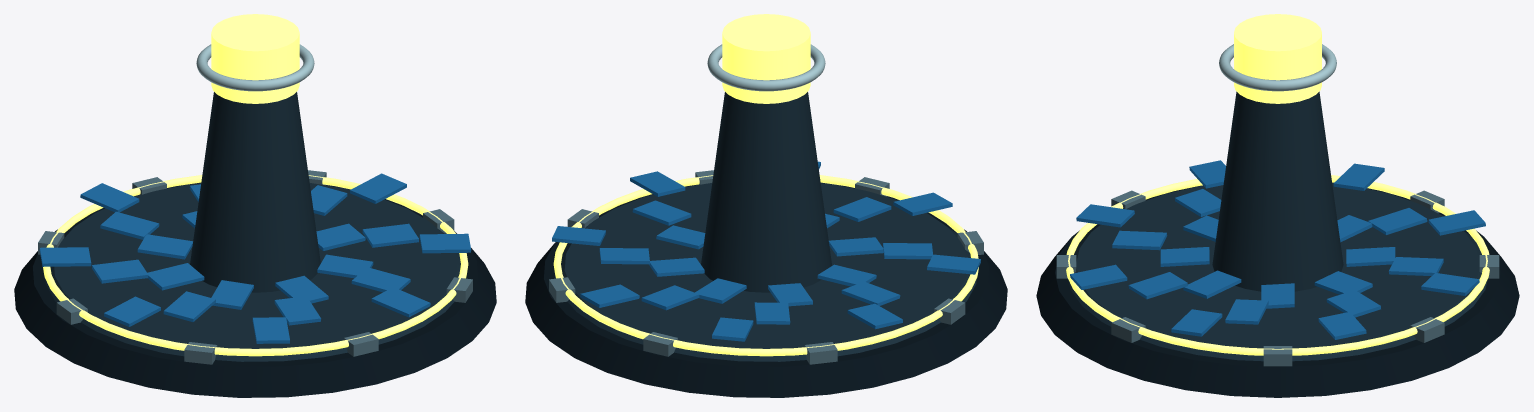
File: solarPlant.glb
3 renders of one model, left to right at view 1: azimuth 30°, elevation 25°; view 2: azimuth 150°, elevation 25°; view 3: azimuth 270°, elevation 25°, orthographic.
Visible parts, largest first — view 1: upper-deck, armored-foundation, receiver-tower, plasma-receiver, perimeter-light, detail, heliostat-2-1, heliostat-2-5, heliostat-1-0, heliostat-1-4, heliostat-2-4, heliostat-2-3 (+18 smaller); view 2: upper-deck, armored-foundation, receiver-tower, plasma-receiver, perimeter-light, detail, heliostat-2-2, heliostat-2-6, heliostat-1-0, heliostat-1-2, heliostat-1-6, heliostat-0-3 (+18 smaller); view 3: upper-deck, armored-foundation, receiver-tower, plasma-receiver, perimeter-light, detail, heliostat-1-1, heliostat-2-2, heliostat-2-6, heliostat-2-5, heliostat-0-1, heliostat-2-1 (+19 smaller).
Boxes of the visible parts, x1,y1,x2,y2 form: upper-deck: [45, 183, 466, 361]; armored-foundation: [14, 182, 496, 397]; receiver-tower: [190, 92, 320, 292]; plasma-receiver: [211, 14, 299, 103]; perimeter-light: [43, 175, 468, 356]; detail: [196, 44, 314, 91]; heliostat-2-1: [371, 287, 430, 317]; heliostat-2-5: [80, 183, 139, 212]; heliostat-1-0: [362, 223, 418, 247]; heliostat-1-4: [92, 259, 148, 283]; heliostat-2-4: [39, 247, 91, 266]; heliostat-2-3: [104, 296, 160, 326]; upper-deck: [555, 183, 976, 361]; armored-foundation: [525, 182, 1007, 397]; receiver-tower: [701, 92, 831, 292]; plasma-receiver: [722, 14, 810, 103]; perimeter-light: [553, 175, 978, 356]; detail: [707, 44, 825, 91]; heliostat-2-2: [893, 192, 952, 215]; heliostat-2-6: [580, 284, 639, 307]; heliostat-1-0: [632, 200, 691, 225]; heliostat-1-2: [833, 197, 891, 221]; heliostat-1-6: [641, 285, 699, 310]; heliostat-0-3: [828, 237, 883, 256]; upper-deck: [1068, 183, 1487, 361]; armored-foundation: [1036, 182, 1519, 397]; receiver-tower: [1212, 91, 1343, 291]; plasma-receiver: [1234, 14, 1321, 103]; perimeter-light: [1066, 175, 1489, 355]; detail: [1219, 44, 1336, 91]; heliostat-1-1: [1128, 272, 1187, 299]; heliostat-2-2: [1076, 204, 1134, 227]; heliostat-2-6: [1421, 273, 1479, 295]; heliostat-2-5: [1428, 210, 1485, 235]; heliostat-0-1: [1183, 270, 1241, 298]; heliostat-2-1: [1070, 264, 1127, 289].
Bounding box in the file's own units: 10.4 × 6.25 × 10.4.
